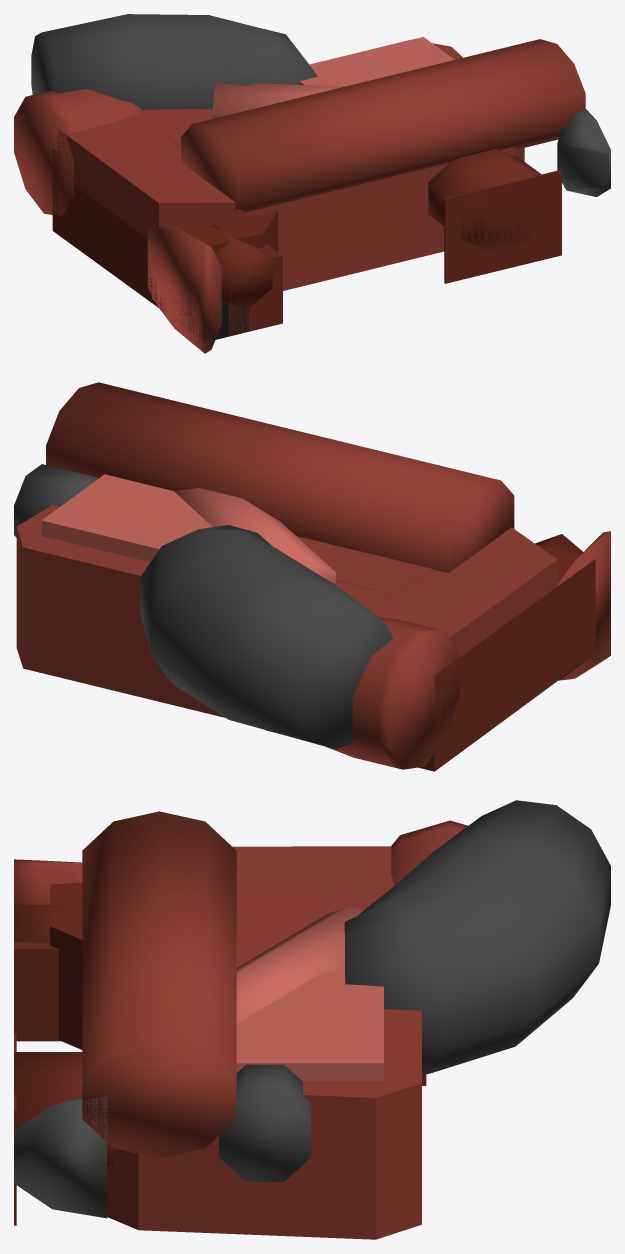
Rendered from newsht-9.glb.
3 views of the same model, one above another, from view 1: azimuth 30°, elevation 25°; view 2: azimuth 150°, elevation 25°; view 3: azimuth 270°, elevation 25° (orthographic). The views are drawn at different scales.
Parts seen in each view (by area): view 1: newsht-9; view 2: newsht-9; view 3: newsht-9.
Boxes of the visible parts, box(x1,y1,x2,y2) form: newsht-9: box(14, 14, 610, 353); newsht-9: box(14, 382, 610, 771); newsht-9: box(14, 800, 610, 1239).
Bounding box in the file's own units: 2 × 0.8152 × 1.88.
